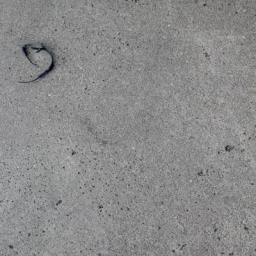FOD: (13, 41, 59, 86)
